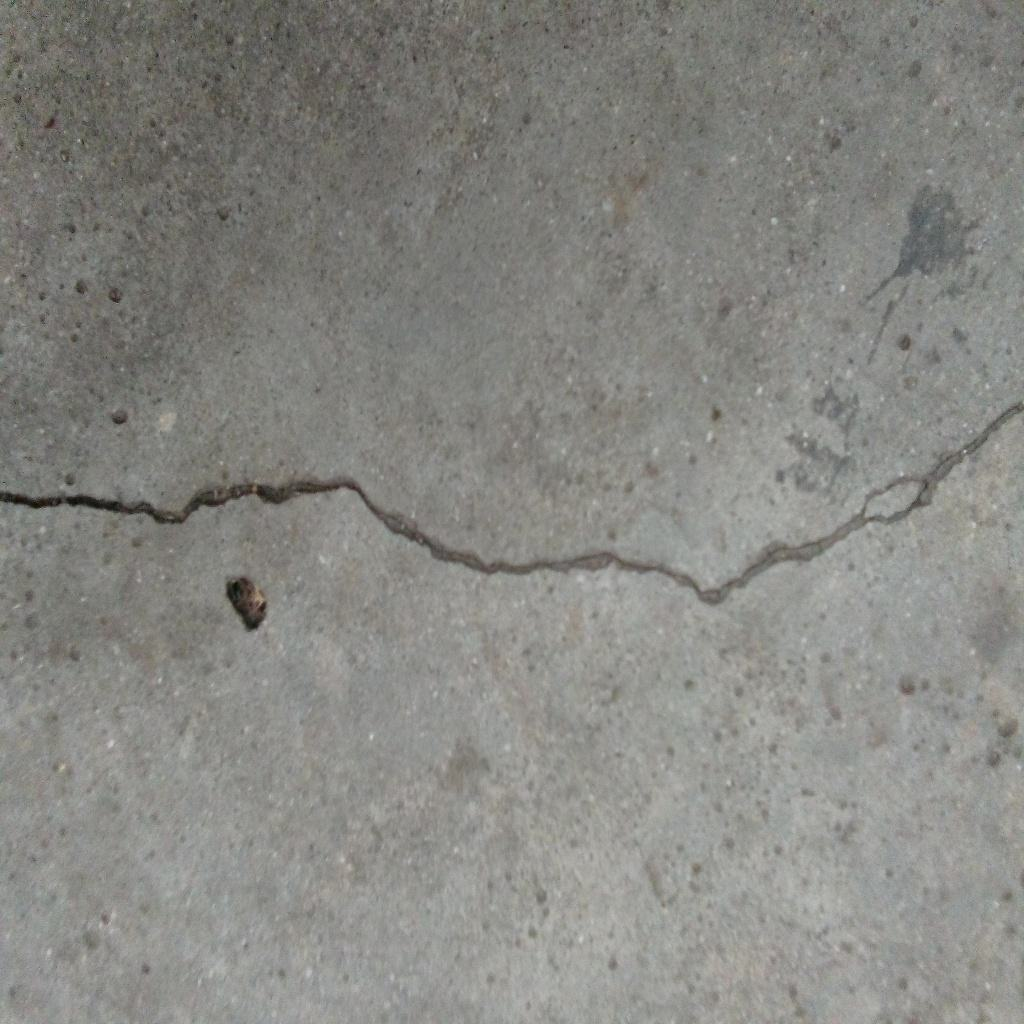Crack: (1, 404, 1024, 607)
Spalling: (225, 575, 269, 632)
